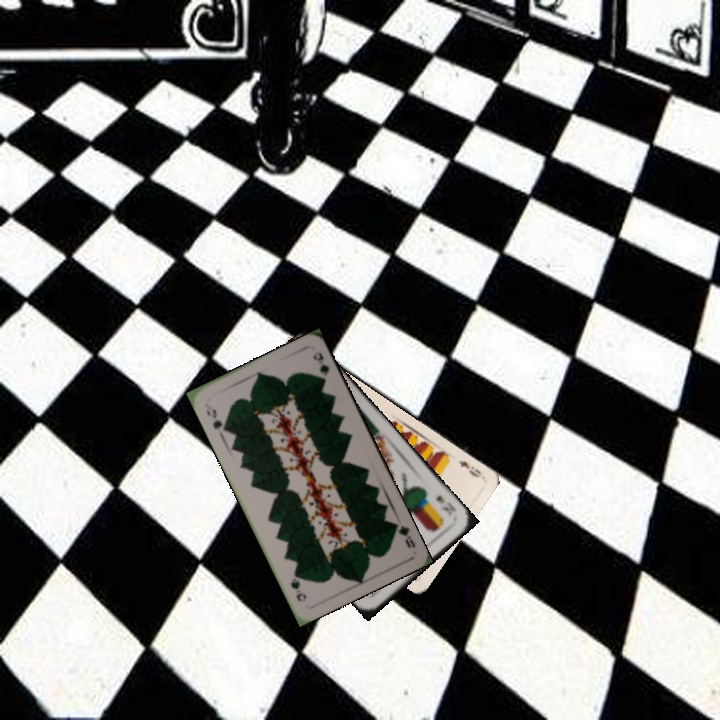E9: (454, 456, 486, 481)
EK: (432, 491, 459, 517)
G9: (388, 518, 418, 550), (202, 402, 230, 435)
